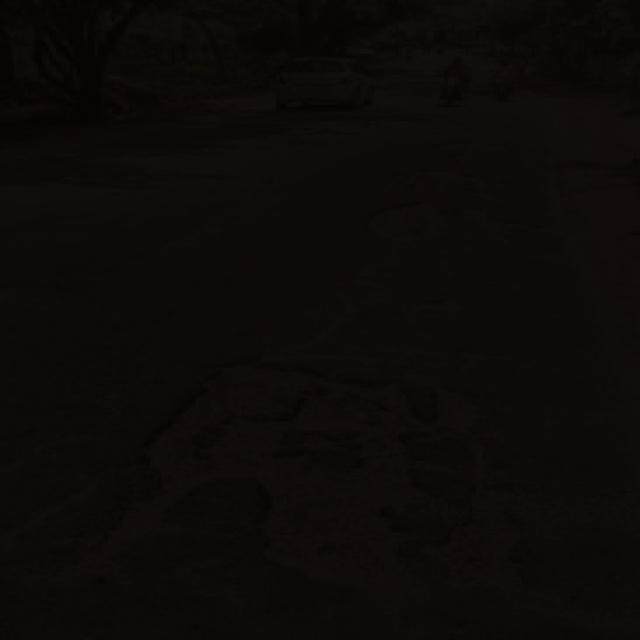Pothole: (104, 355, 530, 591), (360, 199, 449, 249)
